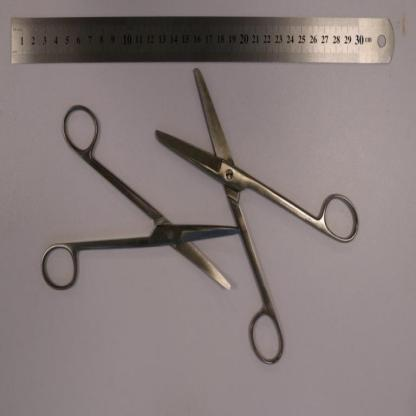Curved Mayo Scissors: (155, 66, 361, 366)
Dressing Scissors: (41, 100, 241, 293)
